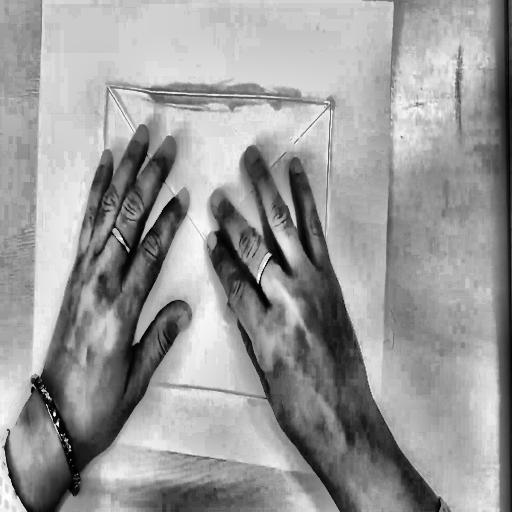bottom_left: (31, 415, 36, 425)
bottom_right: (373, 460, 380, 472)
envelop: (91, 75, 337, 415)
top_right: (392, 0, 395, 5)
